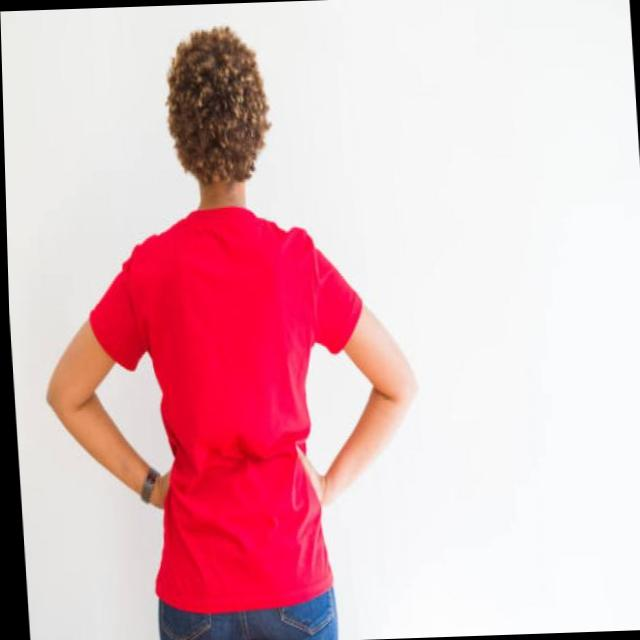no helmet: (157, 20, 274, 198)
